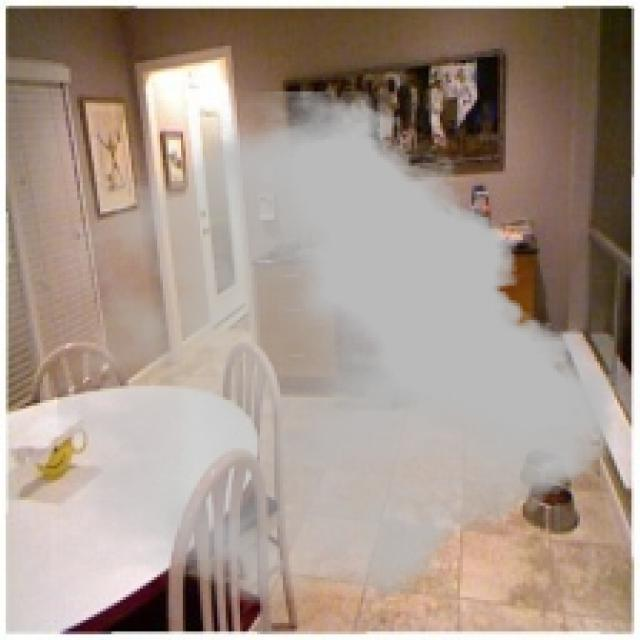Smoke: (57, 91, 614, 606)
